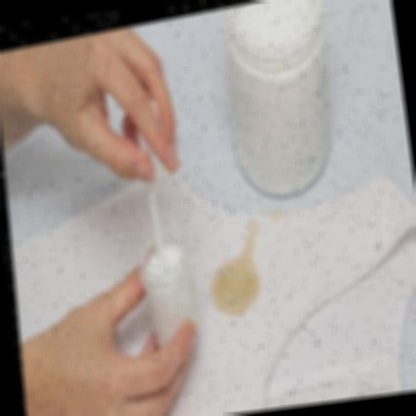coffee: (218, 266, 255, 306)
